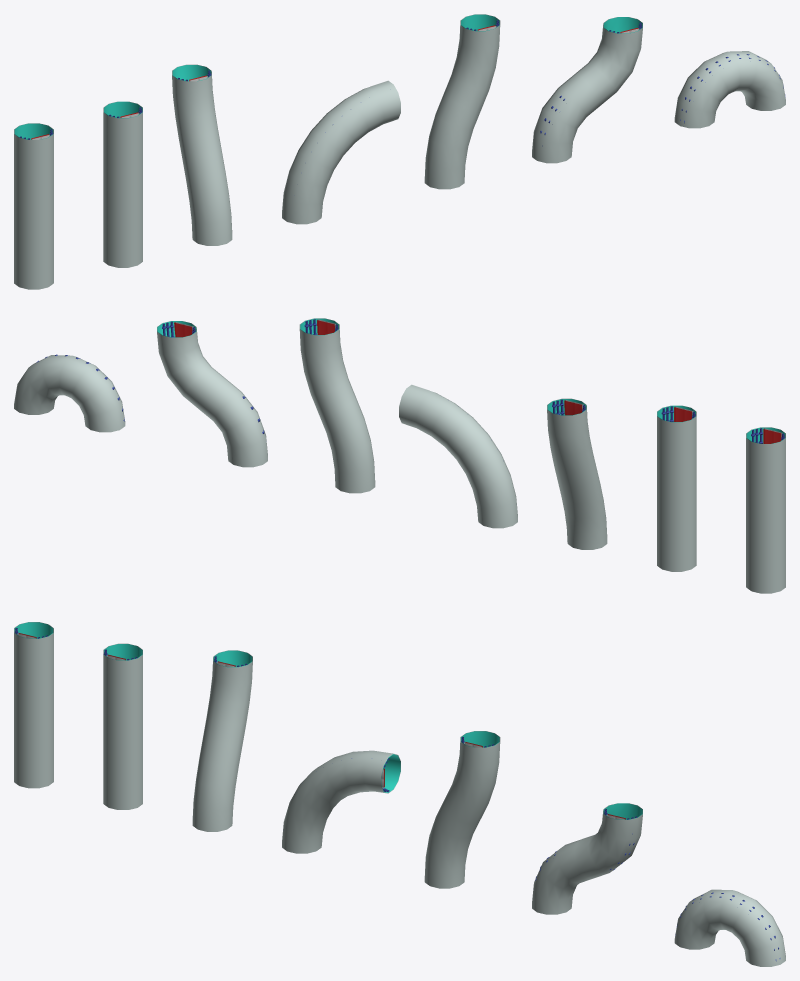
Rendered from pipe-poly.dae.
3 views of the same model, one above another, from view 1: azimuth 30°, elevation 25°; view 2: azimuth 150°, elevation 25°; view 3: azimuth 330°, elevation 25° (orthographic).
Parts seen in each view (by area): view 1: LevelUp, STurn1, LeftTurn, STurn2, BasePipe, LongStraight, UTurn; view 2: STurn1, LeftTurn, STurn2, BasePipe, LongStraight, LevelUp, UTurn; view 3: LevelUp, STurn1, BasePipe, LongStraight, LeftTurn, STurn2, UTurn.
Boxes of the visible parts, x1,y1,x2,y2 form: LevelUp: (172, 64, 232, 245); STurn1: (424, 14, 500, 189); LeftTurn: (282, 80, 400, 224); STurn2: (532, 17, 642, 163); BasePipe: (14, 123, 53, 289); LongStraight: (103, 101, 142, 267); UTurn: (674, 51, 785, 128); STurn1: (299, 318, 375, 493); LeftTurn: (399, 384, 517, 528); STurn2: (157, 321, 267, 467); BasePipe: (746, 427, 785, 593); LongStraight: (657, 405, 696, 571); LevelUp: (547, 398, 607, 549); UTurn: (14, 354, 125, 432); LevelUp: (192, 650, 252, 831); STurn1: (424, 731, 500, 888); BasePipe: (14, 622, 53, 788); LongStraight: (103, 643, 142, 809); LeftTurn: (282, 750, 400, 853); STurn2: (532, 803, 642, 914); UTurn: (674, 889, 785, 966).
Bounding box in the file's own units: 42.93 × 3.93 × 8.
